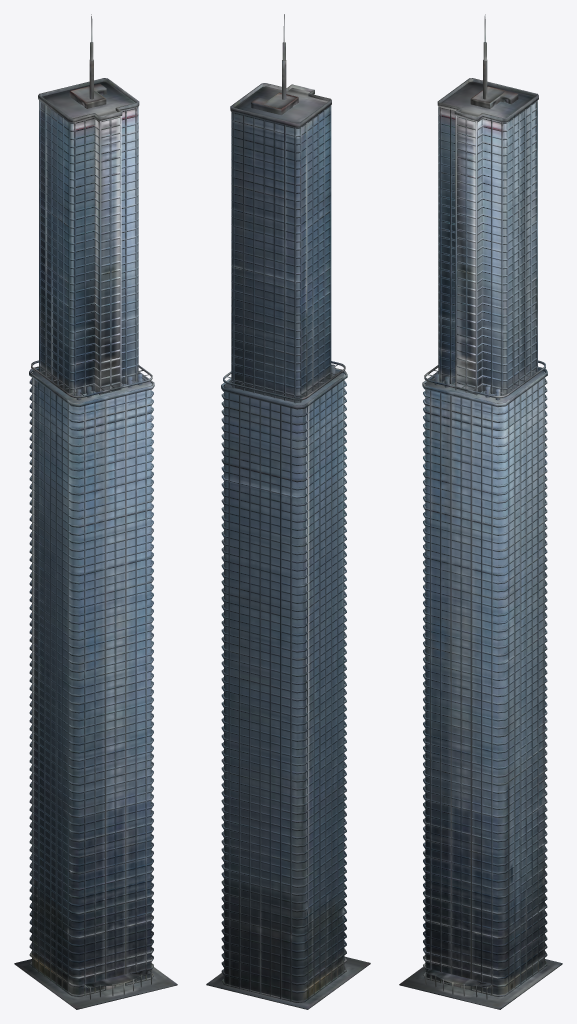
The model's file is cid_comercial.glb.
3 renders of one model, left to right at view 1: azimuth 30°, elevation 25°; view 2: azimuth 150°, elevation 25°; view 3: azimuth 330°, elevation 25°, orthographic.
Size of the model in its own units: 0.221 by 2 by 0.2367.
Materials: 1 (1 with a texture image).
